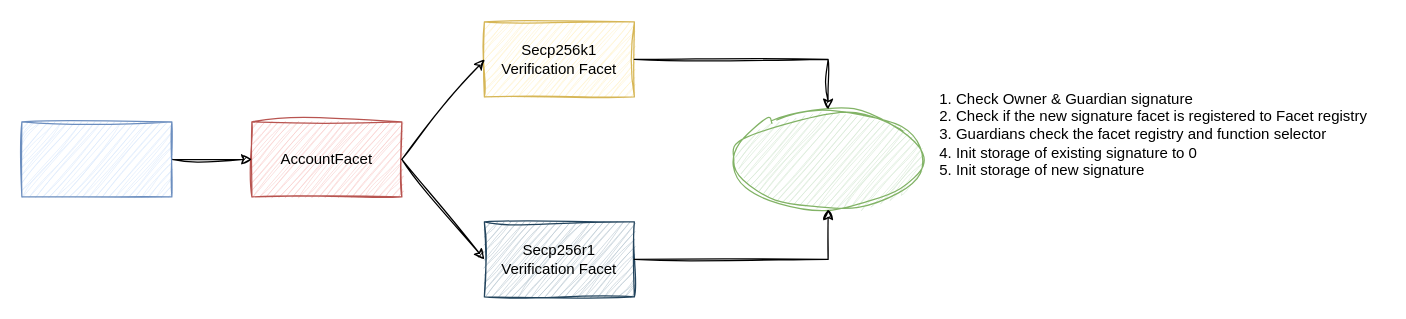
Some shapes in this 1406 by 319 pixel diagram are drawn without their labels. The shapes that lost their labels are listed below. From the top down, each one's centre as x and y in pixels, then its label:
the point at 96,159: Barz
the point at 827,158: migrateSignatureScheme
